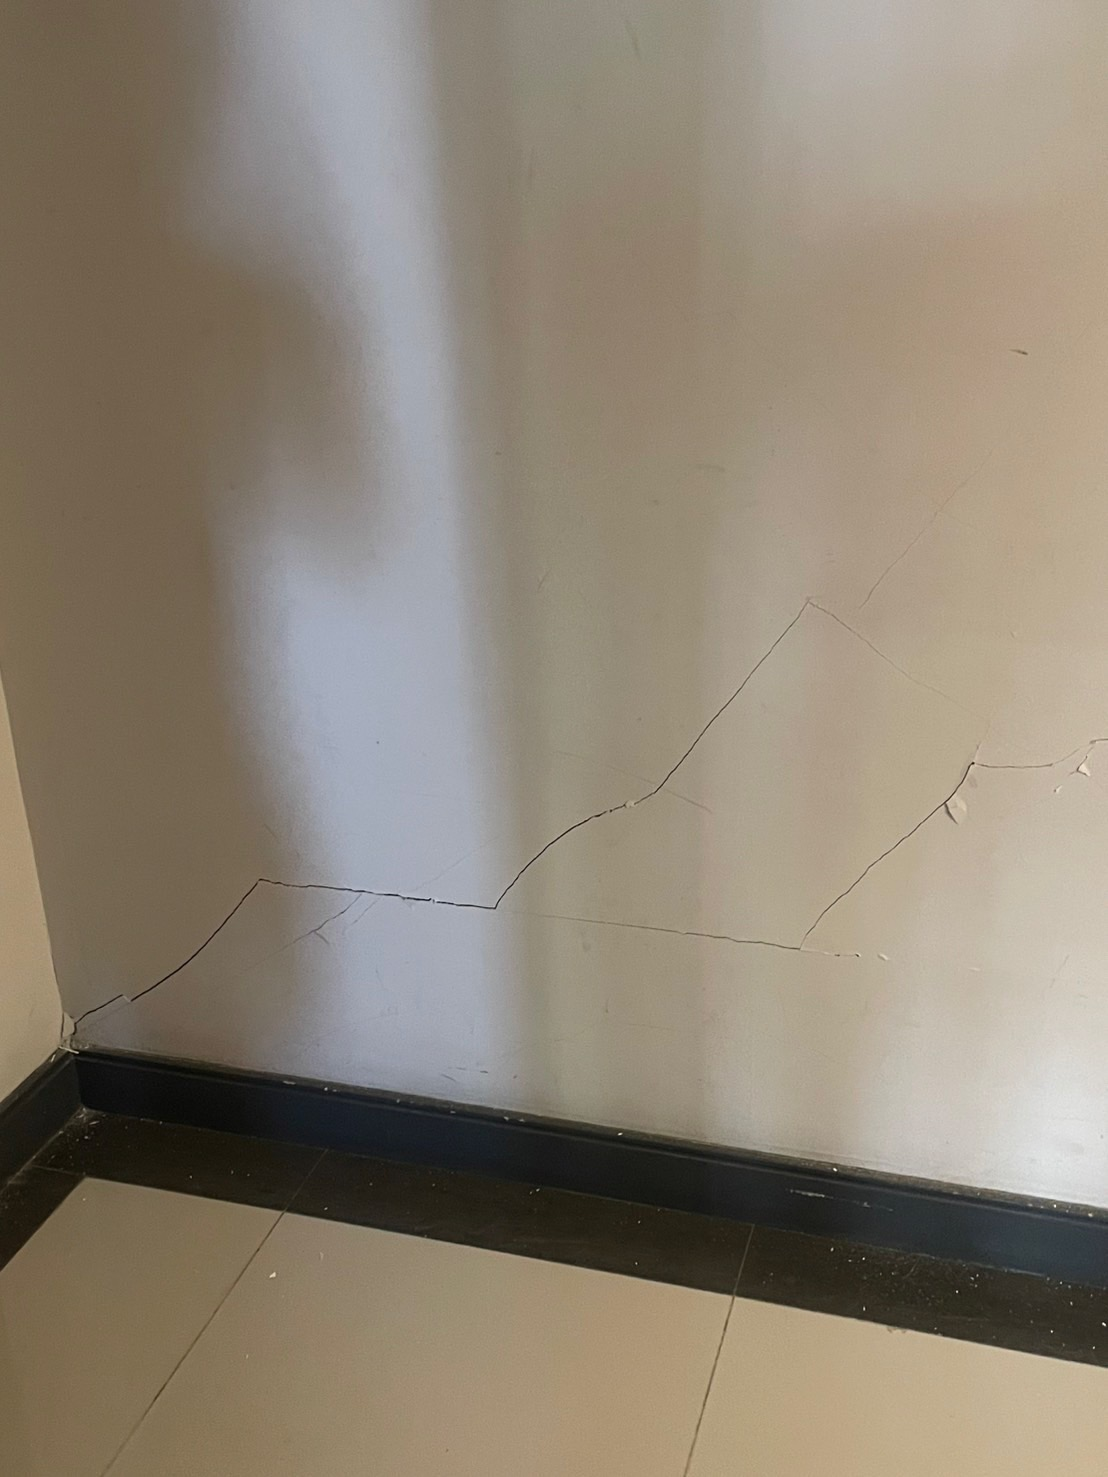Low: (51, 578, 1108, 1071)
